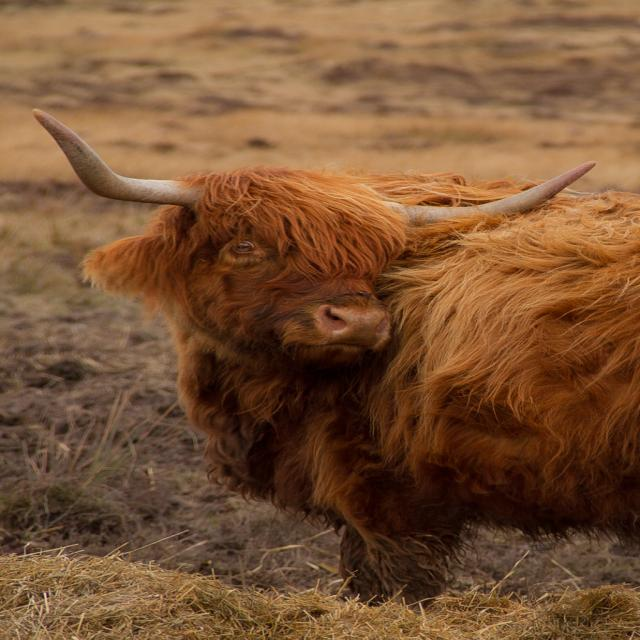Bull: (21, 110, 640, 606)
